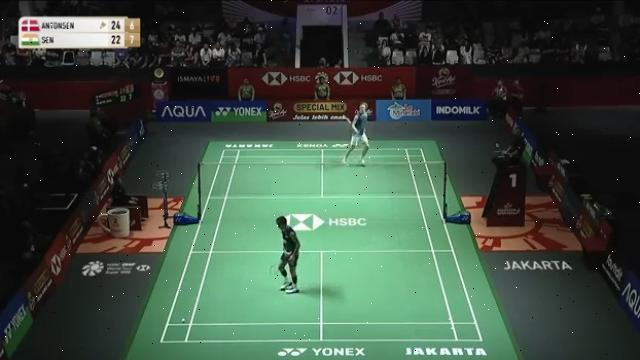Shuttlecock: (177, 313, 190, 326)
